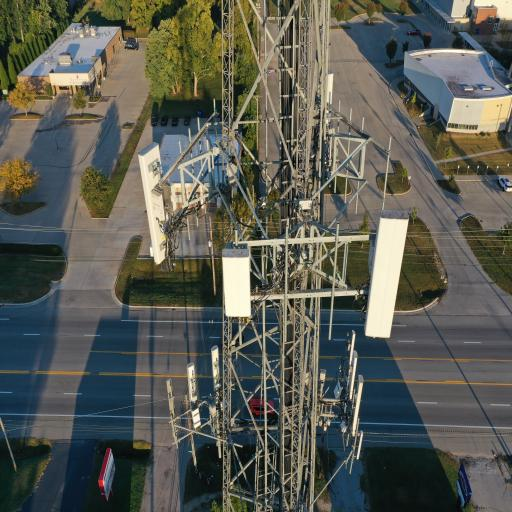supporting_tower: (137, 1, 410, 511)
